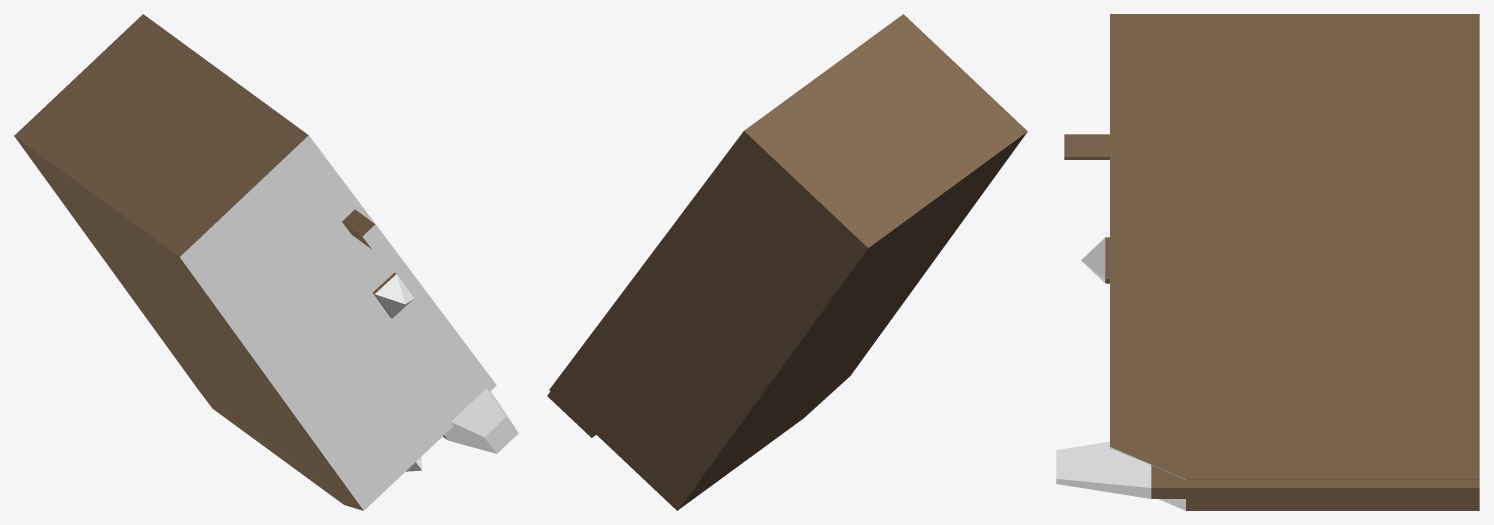
The picture shows the model from 3 angles, left to right: view 1: azimuth 30°, elevation 25°; view 2: azimuth 150°, elevation 25°; view 3: azimuth 270°, elevation 25°; orthographic projection. The views are drawn at different scales.
Visible parts, largest first — view 1: City_2316778; view 2: City_2316778; view 3: City_2316778.
Boxes of the visible parts, left/top/right/bottom form: City_2316778: left=14, top=14, right=518, bottom=510; City_2316778: left=547, top=14, right=1027, bottom=510; City_2316778: left=1056, top=14, right=1479, bottom=510.
Size of the model in its own units: 1244 by 1467 by 1226.
